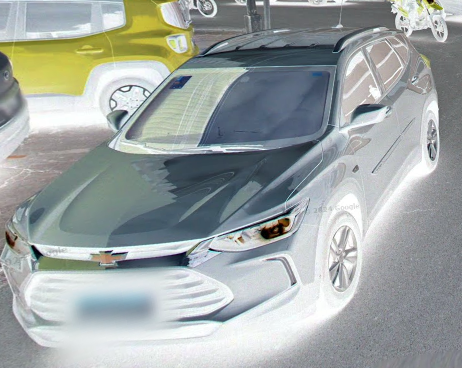car: (4, 26, 443, 348)
